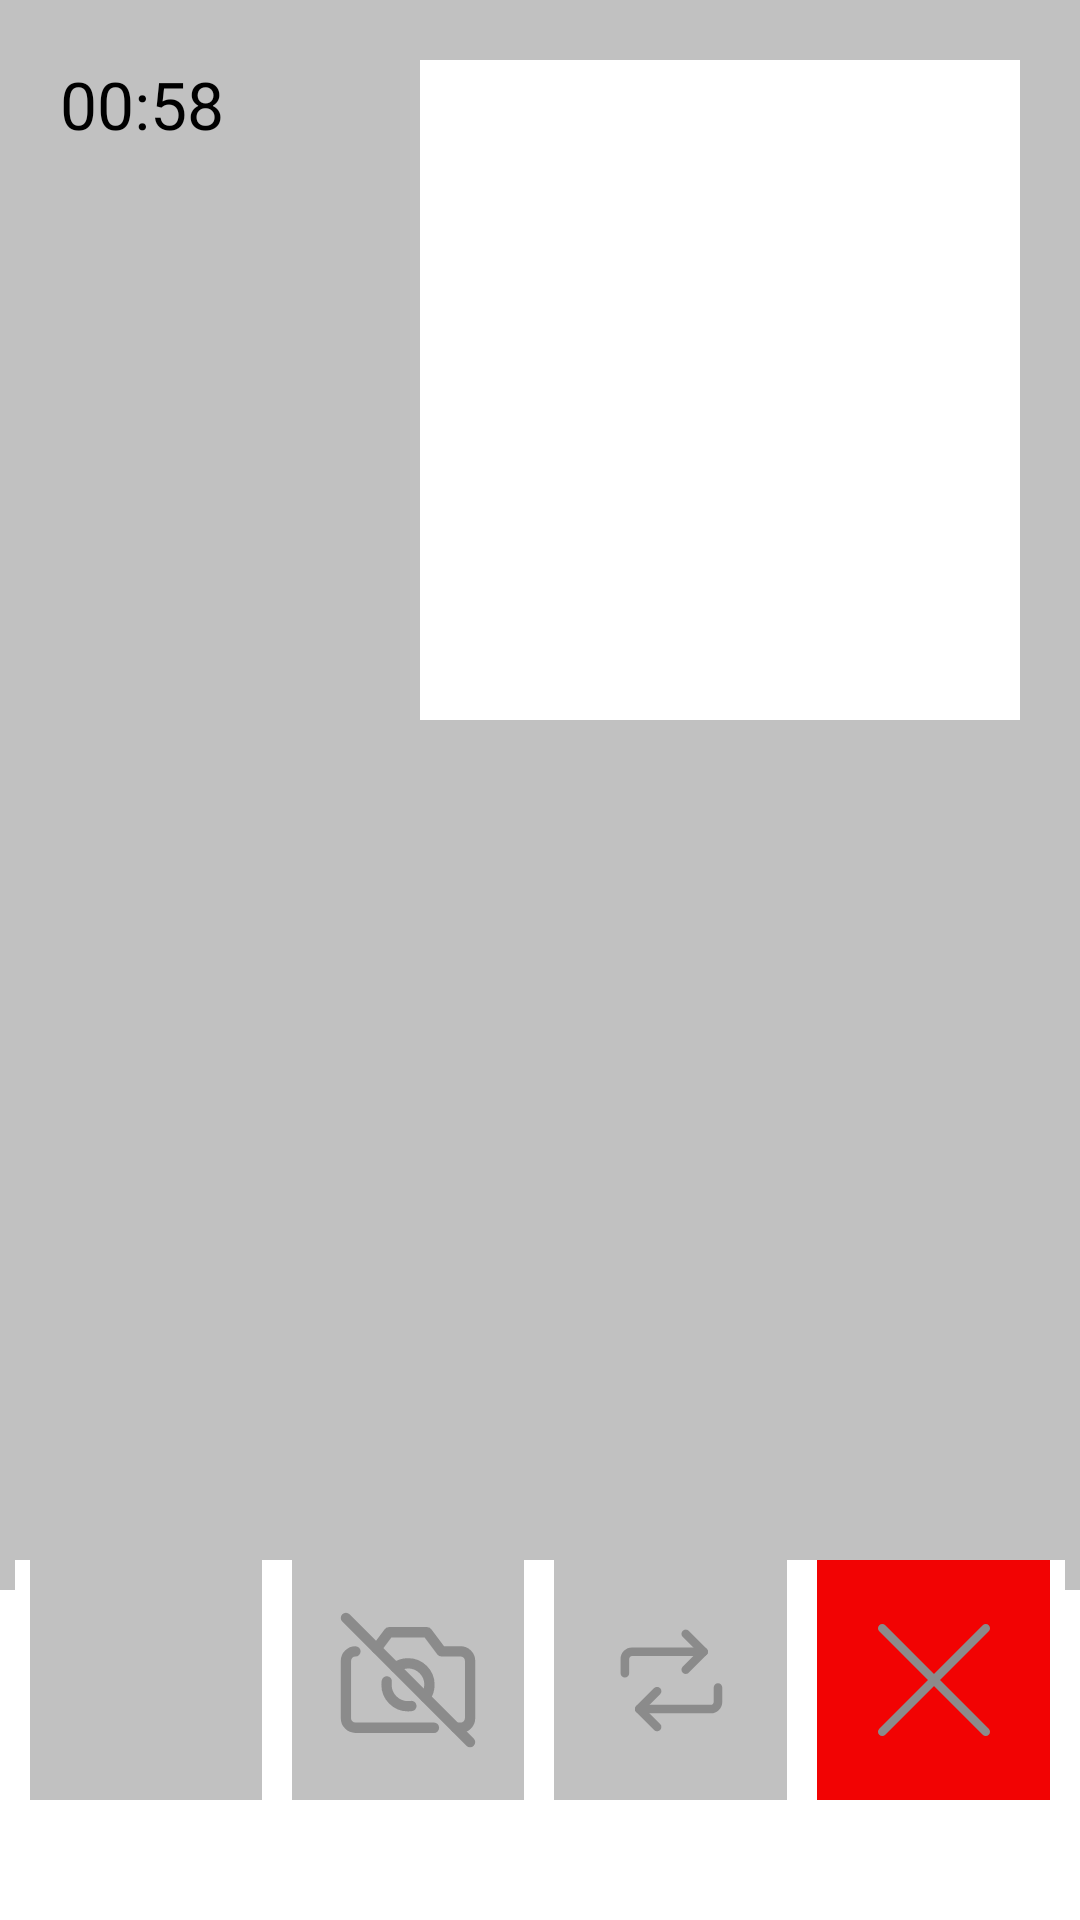

Icon bounding boxes for this 1080 × 1920 phone screenshot, format (x1, y1, x2, y2):
Camera Change: (621, 1630, 722, 1731)
Cancel: (817, 1560, 1050, 1800)
Close Camera: (341, 1613, 475, 1747)
